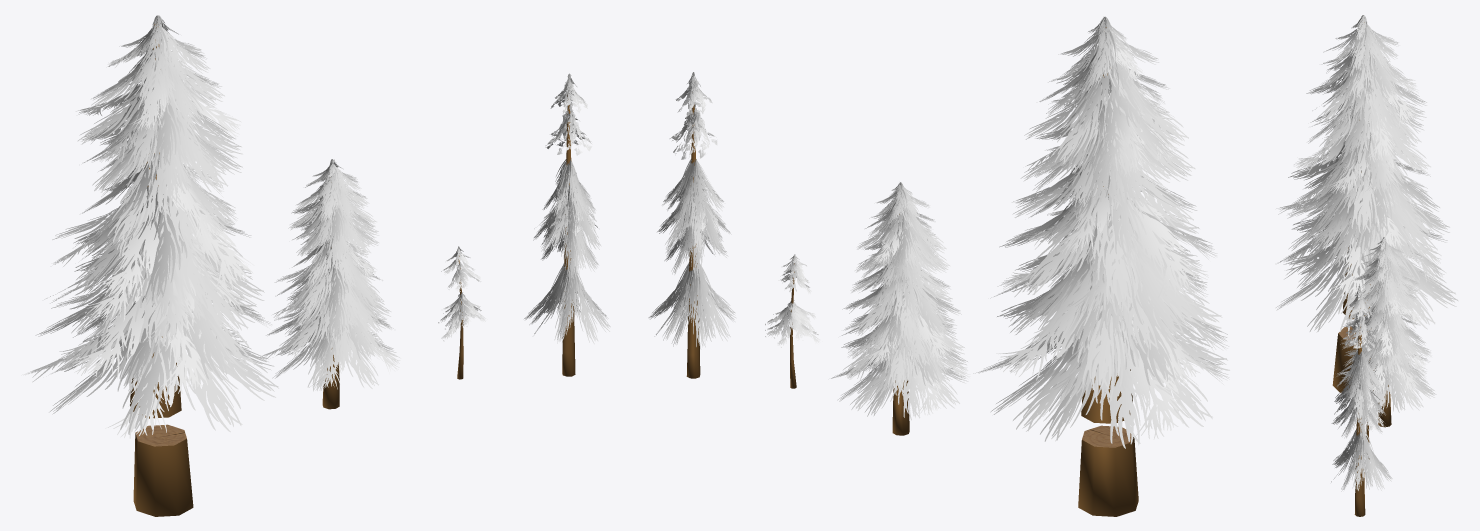
File: New Trees.fbx
3 views of the same model, side by side, from view 1: azimuth 30°, elevation 25°; view 2: azimuth 150°, elevation 25°; view 3: azimuth 270°, elevation 25° (orthographic). The views are drawn at different scales.
Parts seen in each view (by area): view 1: Cylinder.004, Cylinder.003, Cylinder.007, Cylinder.001, Cylinder.000; view 2: Cylinder.004, Cylinder.003, Cylinder.007, Cylinder.001, Cylinder.000; view 3: Cylinder.004, Cylinder.003, Cylinder.007, Cylinder.001, Cylinder.002.
Part boxes in pixels (bbox=[...]): Cylinder.004: bbox=[24, 15, 278, 438]; Cylinder.003: bbox=[260, 159, 400, 391]; Cylinder.007: bbox=[524, 73, 610, 353]; Cylinder.001: bbox=[133, 424, 193, 516]; Cylinder.000: bbox=[438, 246, 485, 353]; Cylinder.004: bbox=[973, 16, 1229, 448]; Cylinder.003: bbox=[831, 182, 970, 420]; Cylinder.007: bbox=[648, 72, 736, 354]; Cylinder.001: bbox=[1078, 425, 1138, 516]; Cylinder.000: bbox=[765, 254, 819, 362]; Cylinder.004: bbox=[1276, 15, 1458, 336]; Cylinder.003: bbox=[1336, 237, 1436, 413]; Cylinder.007: bbox=[1331, 286, 1392, 498]; Cylinder.001: bbox=[1332, 326, 1374, 392]; Cylinder.002: bbox=[1378, 401, 1391, 427].
Size of the model in its own units: 2044 by 1671 by 831.
